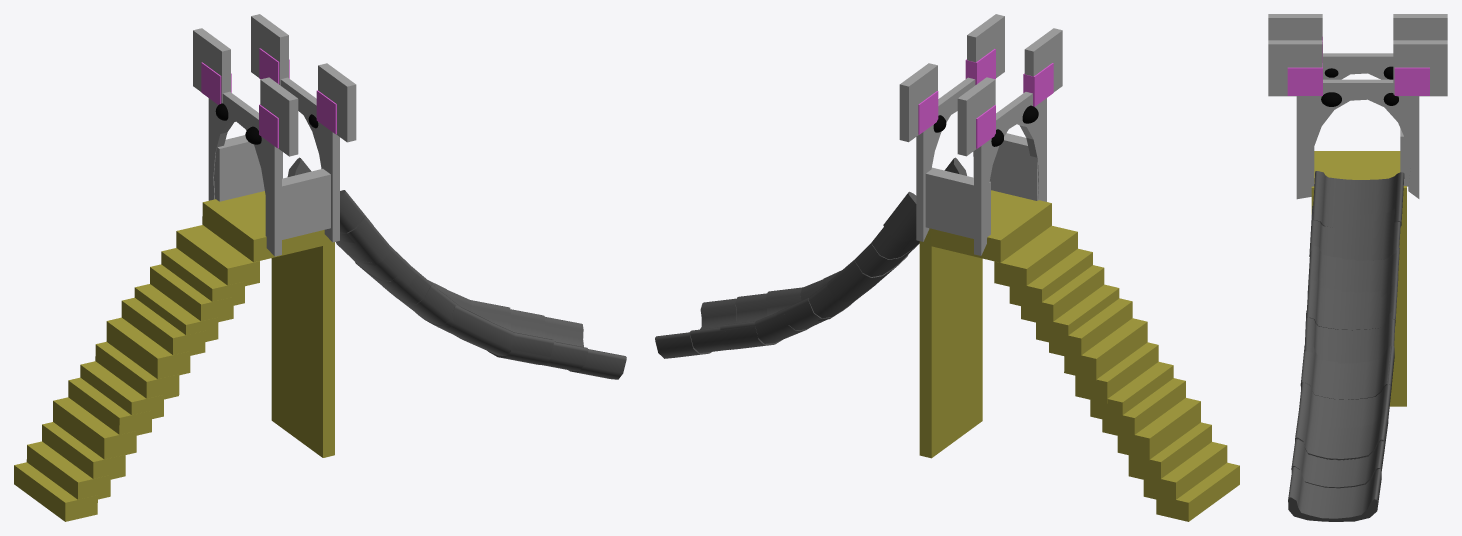
The model's file is cheeseslide.fbx.
3 renders of one model, left to right at view 1: azimuth 30°, elevation 25°; view 2: azimuth 150°, elevation 25°; view 3: azimuth 270°, elevation 25°, orthographic. The views are drawn at different scales.
Parts seen in each view (by area): view 1: polySurface26; view 2: polySurface26; view 3: polySurface26.
Part boxes in pixels (x1,y1,x2,y2): polySurface26: (14,14,626,521); polySurface26: (655,14,1239,521); polySurface26: (1268,14,1447,521).
Size of the model in its own units: 14.68 by 9.92 by 4.45.
